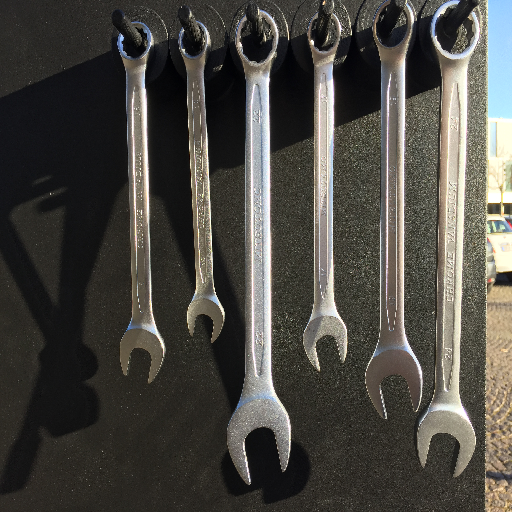bottom: (223, 396, 293, 487), (414, 402, 477, 477), (363, 348, 424, 419), (116, 323, 167, 384), (300, 313, 349, 371), (184, 289, 227, 344)
top: (431, 1, 487, 64), (369, 1, 421, 52), (234, 9, 280, 66), (114, 18, 157, 65), (304, 9, 345, 58), (175, 19, 213, 64)
